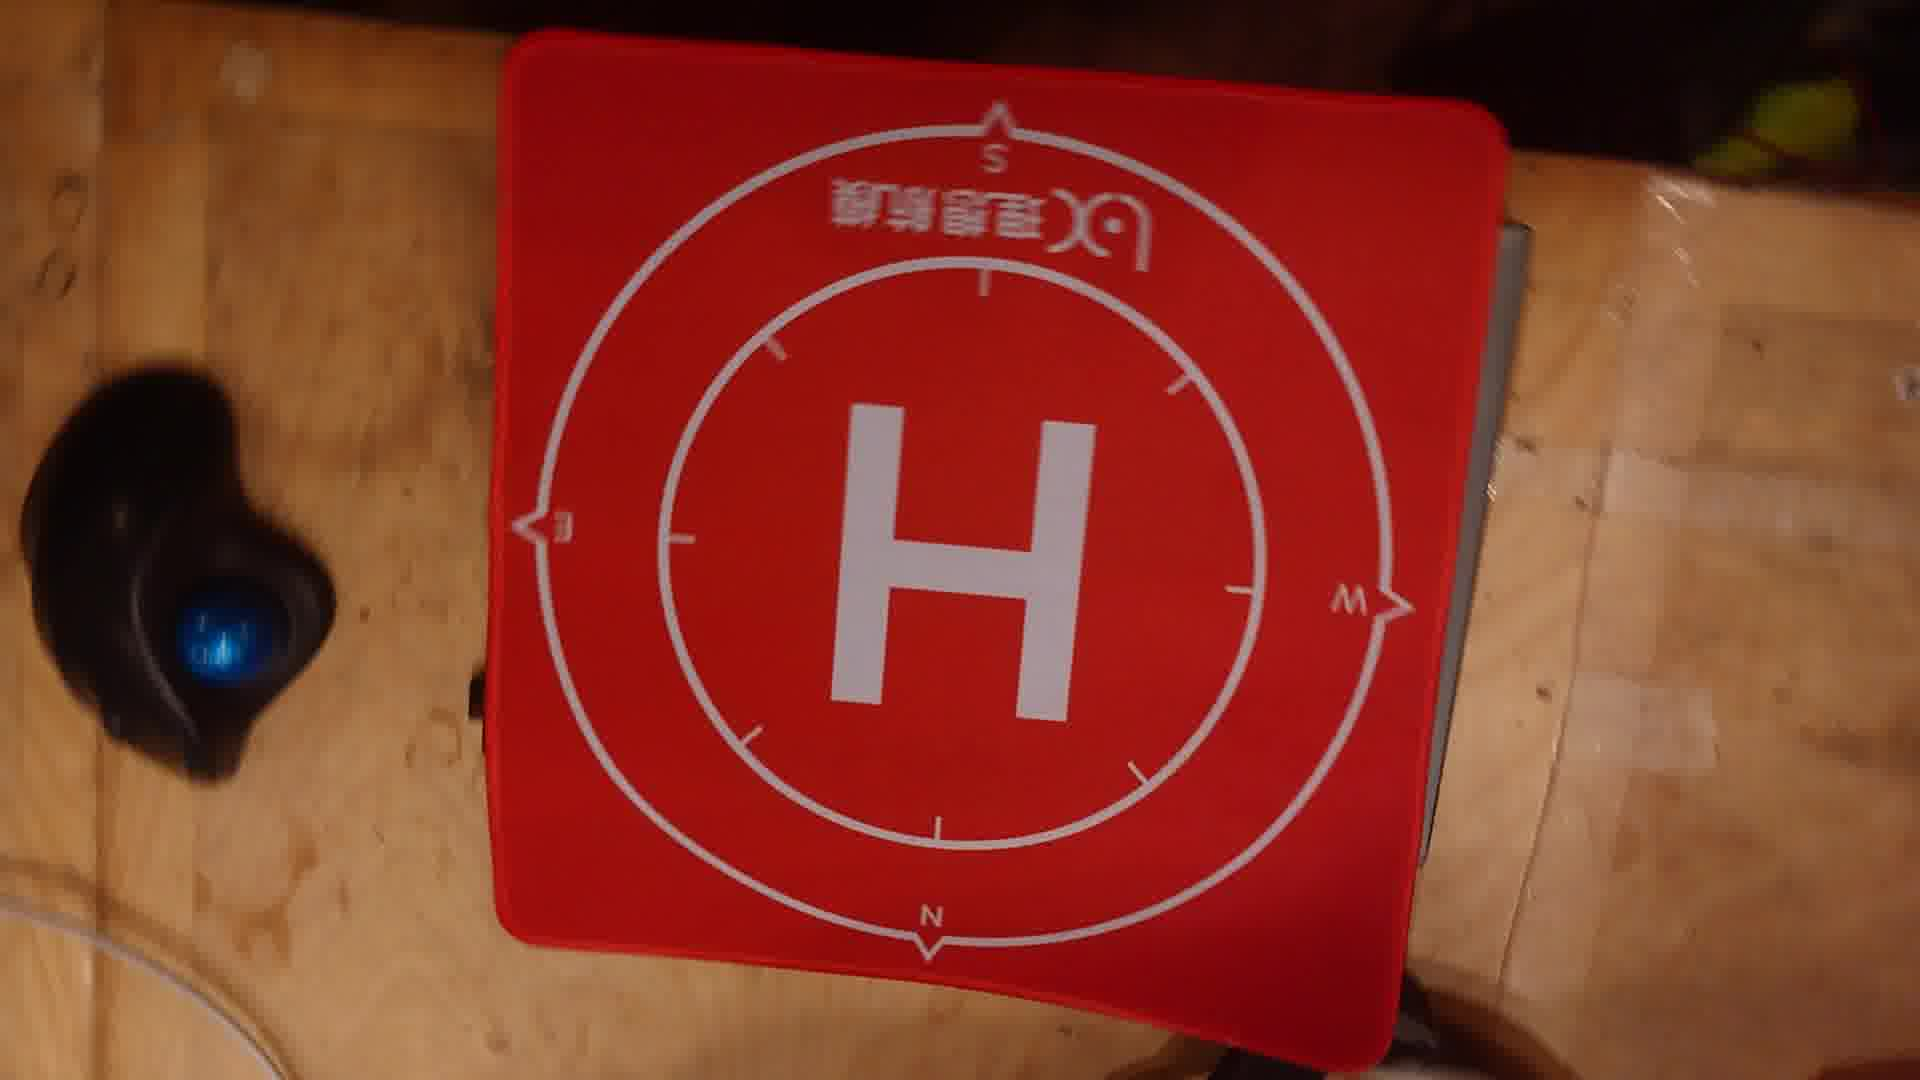H: (827, 398, 1098, 724)
